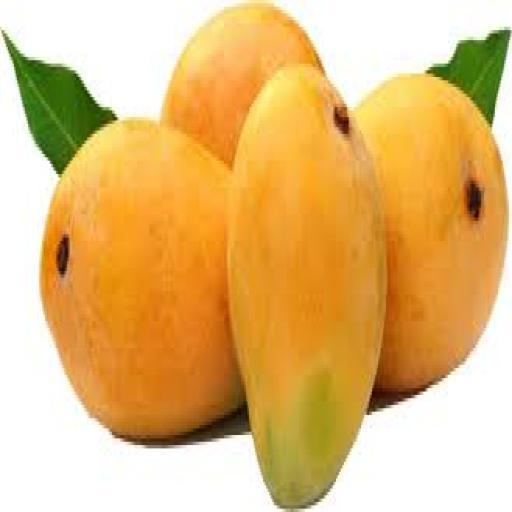mango: (228, 64, 392, 511), (37, 116, 242, 437), (358, 70, 507, 393)
